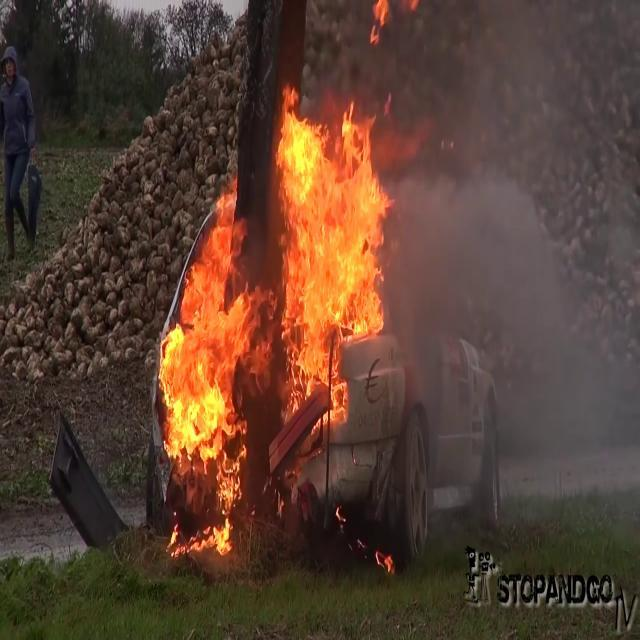Fire: (264, 74, 404, 406), (156, 191, 258, 568)
Smoke: (393, 157, 635, 521)
